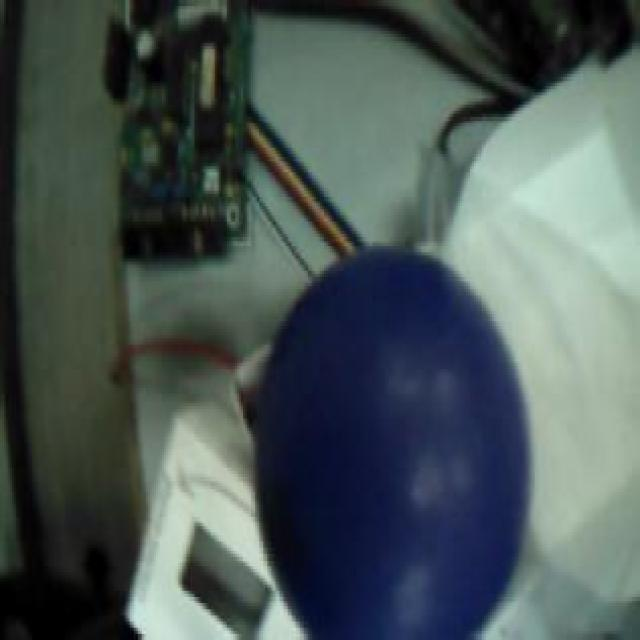BallPurple: (251, 245, 531, 640)
